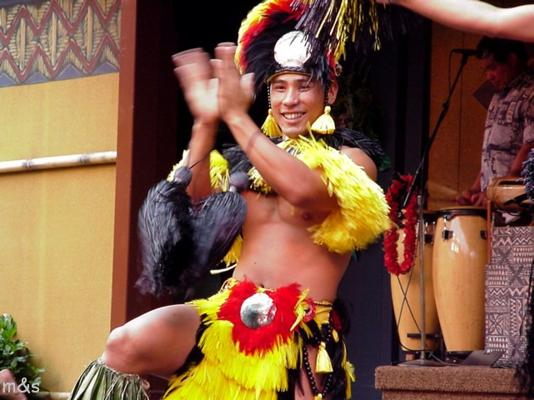person: (63, 30, 379, 400)
